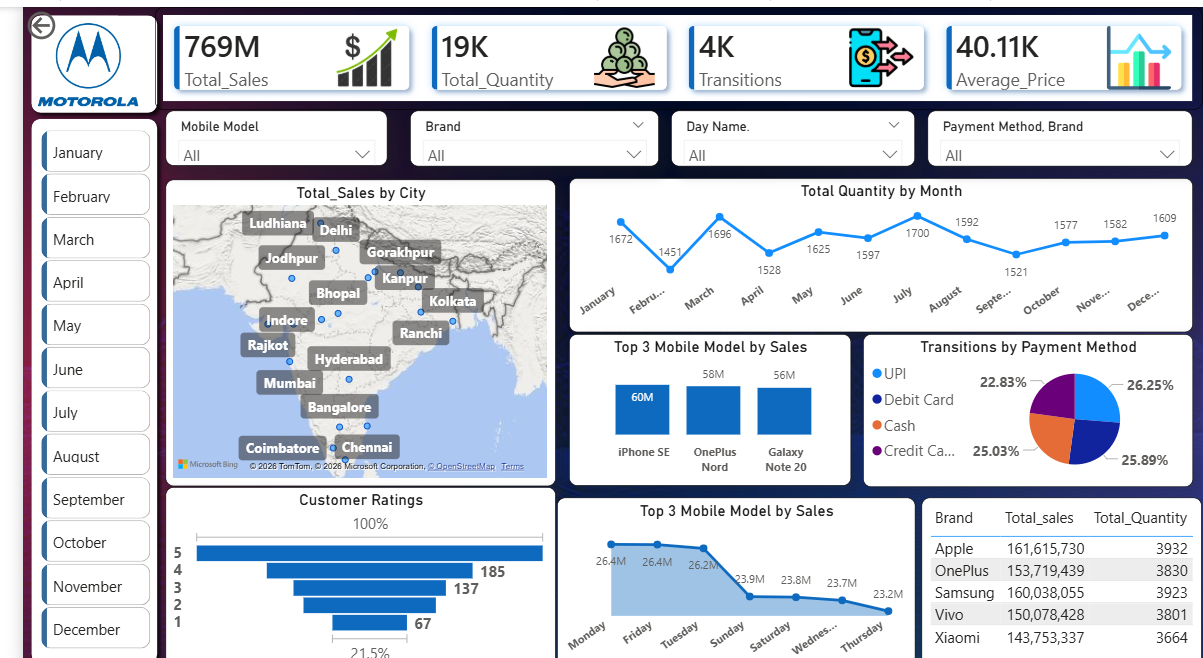

The page's visual inventory and layout, read from the dashboard file:
{"tool":"powerbi","page":{"name":"Page 1","canvas":[1280,720],"ordinal":0},"visuals":[{"type":"shape","box":[0,0,154.5,123.6],"z":0},{"type":"image","box":[14.6,1.6,112.2,122],"z":1000},{"type":"shape","box":[0,112.2,154.5,608.3],"z":2000},{"type":"advancedSlicerVisual","fields":{"Values":["Mobile_Sales_data.Date.Variation.Date Hierarchy.Month"]},"box":[14.6,128.5,128.5,574.2],"z":3000},{"type":"actionButton","box":[0,0,100,40],"z":4000},{"type":"cardVisual","fields":{"Data":["Mobile_Sales_data.Total_sales","Mobile_Sales_data.Total_Quantity","Mobile_Sales_data.Transitions","Mobile_Sales_data.Average_Price"]},"box":[143.6,0,1135.8,111.5],"z":5000},{"type":"map","title":"Total_Sales by City","fields":{"Category":["Mobile_Sales_data.City"]},"box":[155,187.1,423.3,332.6],"z":6000},{"type":"lineChart","fields":{"Category":["Mobile_Sales_data.Date.Variation.Date Hierarchy.Month","Mobile_Sales_data.Date.Variation.Date Hierarchy.Day"],"Y":["Mobile_Sales_data.Total_Quantity"]},"box":[592.1,185.4,676.6,167.5],"z":7000},{"type":"clusteredColumnChart","title":"Top 3 Mobile Model by Sales","fields":{"Category":["Mobile_Sales_data.Mobile Model"],"Y":["Mobile_Sales_data.Total_sales"]},"box":[591.5,355.3,306.1,164.4],"z":8000},{"type":"pieChart","fields":{"Category":["Mobile_Sales_data.Payment Method"],"Y":["Mobile_Sales_data.Transitions"]},"box":[910.9,354.6,357.8,165.9],"z":9000},{"type":"funnel","title":" Customer Ratings ","fields":{"Y":["CountNonNull(Mobile_Sales_data.Customer Ratings)"],"Category":["Mobile_Sales_data.Customer Ratings"]},"box":[155,519.7,423.3,200.3],"z":10000},{"type":"areaChart","title":"Top 3 Mobile Model by Sales","fields":{"Y":["Mobile_Sales_data.Total_sales"],"Category":["Mobile_Sales_data.Day Name."]},"box":[579,531.9,388.7,188.7],"z":11000},{"type":"tableEx","fields":{"Values":["Mobile_Sales_data.Brand","Mobile_Sales_data.Total_sales","Mobile_Sales_data.Total_Quantity"]},"box":[974.3,531.9,304.2,188.7],"z":12000},{"type":"slicer","fields":{"Values":["Mobile_Sales_data.Mobile Model"]},"box":[154.5,112.2,240.7,60.2],"z":13000},{"type":"slicer","fields":{"Values":["Mobile_Sales_data.Brand"]},"box":[419.5,111.5,270.2,60.5],"z":14000},{"type":"slicer","fields":{"Values":["Mobile_Sales_data.Day Name."]},"box":[703,111.5,264.6,60.5],"z":15000},{"type":"slicer","fields":{"Values":["Mobile_Sales_data.Payment Method","Mobile_Sales_data.Brand"]},"box":[980.8,111.5,287.2,60.5],"z":16000}]}

Visuals, with their boxes in screenshot pixels (x1, y1, x2, y2), scaled from the page's 1280x720 canvas onto the 1203x658 screenshot:
shape: locate(0, 0, 145, 113)
image: locate(14, 1, 119, 113)
shape: locate(0, 103, 145, 657)
advancedSlicerVisual - Mobile_Sales_data.Date.Variation.Date Hierarchy.Month: locate(14, 117, 134, 642)
actionButton: locate(0, 0, 94, 37)
cardVisual - Mobile_Sales_data.Total_sales x Mobile_Sales_data.Total_Quantity: locate(135, 0, 1202, 102)
"Total_Sales by City" map: locate(146, 171, 544, 475)
lineChart - Mobile_Sales_data.Date.Variation.Date Hierarchy.Month x Mobile_Sales_data.Date.Variation.Date Hierarchy.Day: locate(556, 169, 1192, 323)
"Top 3 Mobile Model by Sales" clusteredColumnChart: locate(556, 325, 844, 475)
pieChart - Mobile_Sales_data.Payment Method x Mobile_Sales_data.Transitions: locate(856, 324, 1192, 476)
" Customer Ratings " funnel: locate(146, 475, 544, 657)
"Top 3 Mobile Model by Sales" areaChart: locate(544, 486, 909, 657)
tableEx - Mobile_Sales_data.Brand x Mobile_Sales_data.Total_sales: locate(916, 486, 1202, 657)
slicer - Mobile_Sales_data.Mobile Model: locate(145, 103, 371, 158)
slicer - Mobile_Sales_data.Brand: locate(394, 102, 648, 157)
slicer - Mobile_Sales_data.Day Name.: locate(661, 102, 909, 157)
slicer - Mobile_Sales_data.Payment Method x Mobile_Sales_data.Brand: locate(922, 102, 1192, 157)
